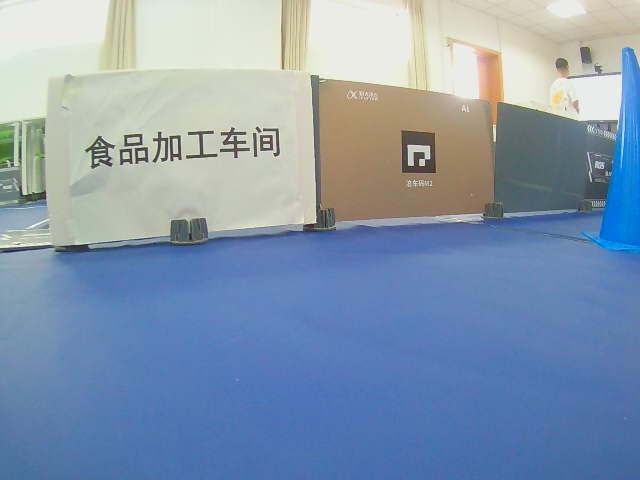target: (83, 126, 282, 170)
